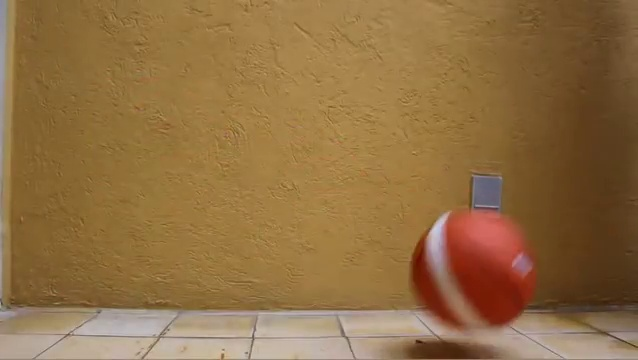ball: (410, 208, 537, 333)
